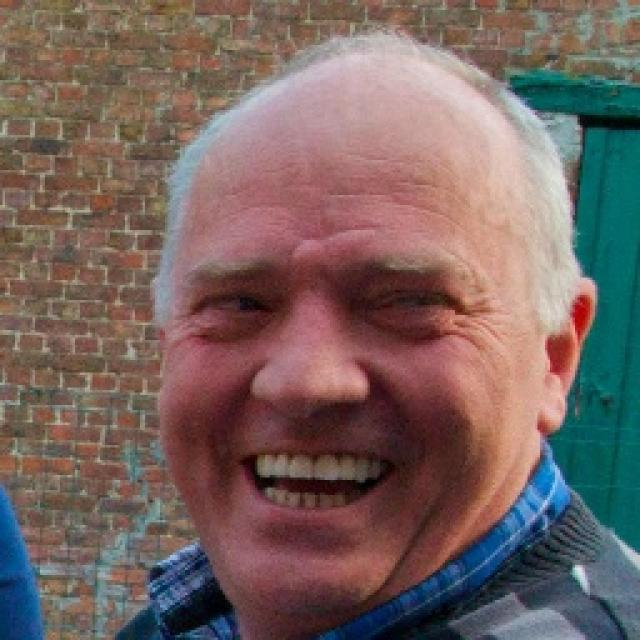earlobe: (535, 277, 599, 437)
